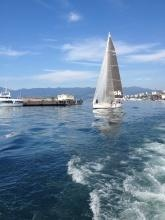fanchuan: (83, 31, 139, 112)
